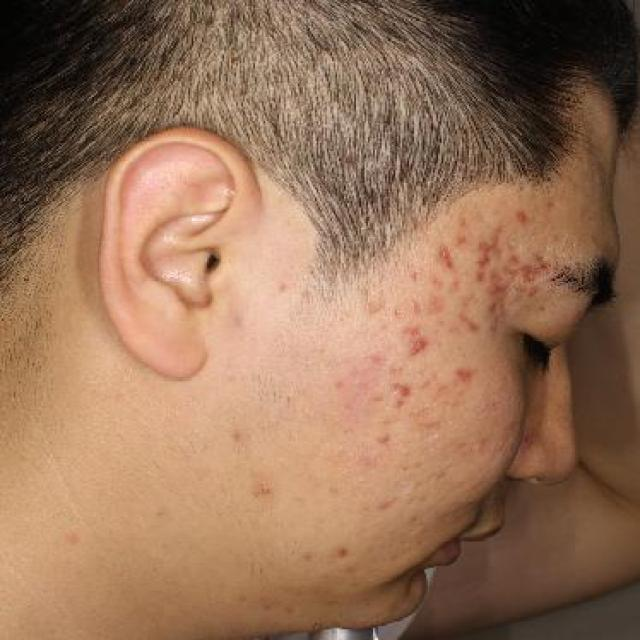dark spot: (428, 243, 467, 271), (402, 332, 438, 358), (450, 309, 488, 331), (448, 363, 479, 386), (512, 262, 542, 282), (500, 251, 527, 266)
pustules: (248, 477, 279, 503)
